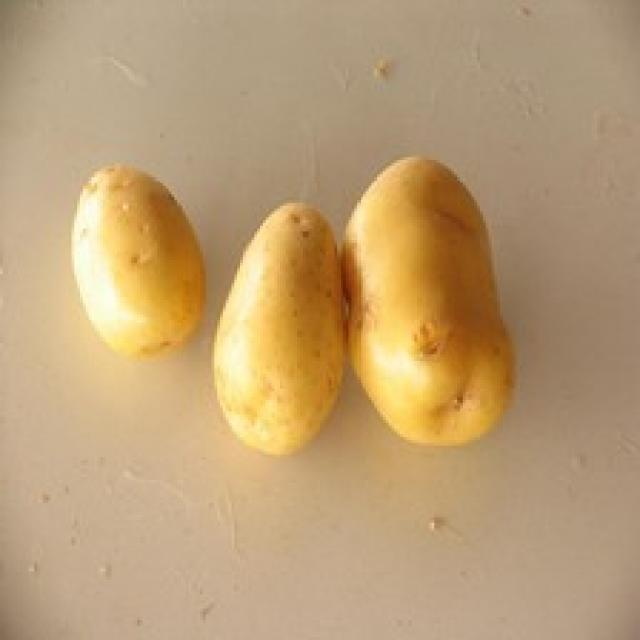Potato: (354, 90, 546, 472), (199, 160, 359, 483), (55, 130, 214, 392)
